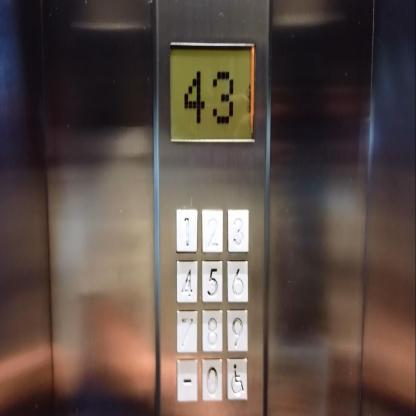-: (175, 356, 199, 403)
0: (200, 355, 224, 402)
1: (174, 207, 198, 254)
2: (200, 206, 224, 254)
3: (226, 206, 250, 253)
4: (175, 257, 199, 304)
5: (200, 257, 224, 304)
6: (225, 256, 249, 304)
7: (175, 307, 199, 355)
8: (200, 306, 224, 354)
9: (225, 306, 249, 353)
CH: (224, 354, 249, 402)
led: (167, 38, 256, 146)
